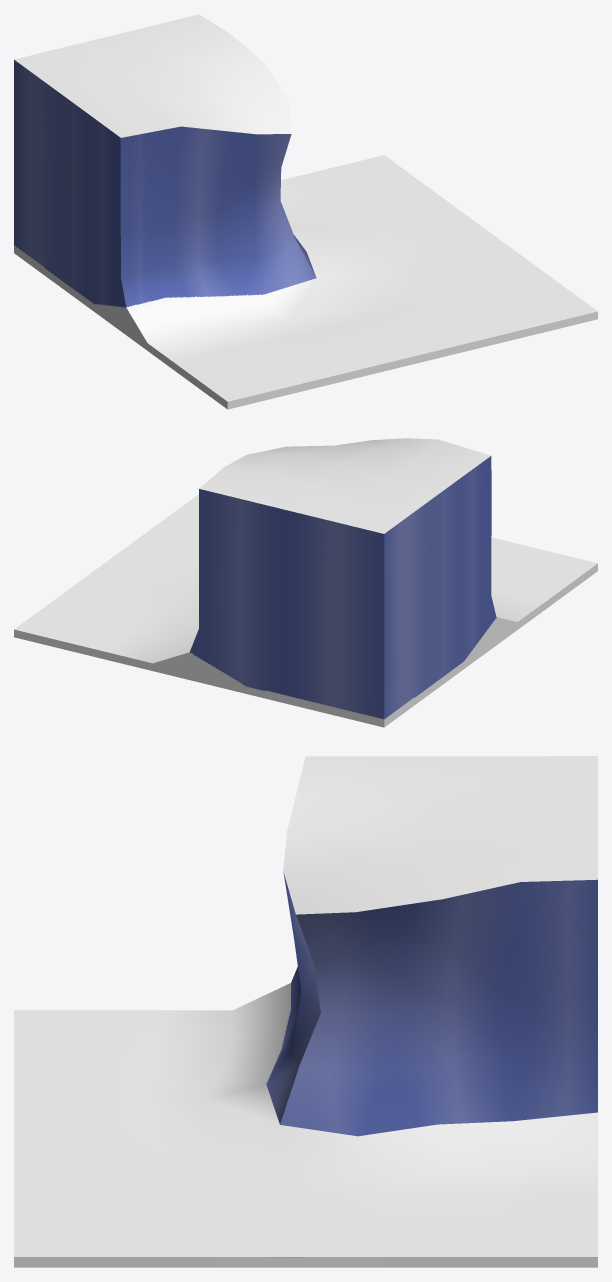
The model's file is wall_concave_1.glb.
3 views of the same model, one above another, from view 1: azimuth 30°, elevation 25°; view 2: azimuth 150°, elevation 25°; view 3: azimuth 270°, elevation 25° (orthographic). The views are drawn at different scales.
Visible parts, largest first — view 1: wall_concave_1.001; view 2: wall_concave_1.001; view 3: wall_concave_1.001.
Boxes of the visible parts, box(x1,y1,x2,y2) form: wall_concave_1.001: box(14, 14, 597, 409); wall_concave_1.001: box(14, 438, 597, 727); wall_concave_1.001: box(14, 756, 597, 1267).
Bounding box in the file's own units: 2 × 0.9995 × 2.
1 material, 1 textured.
